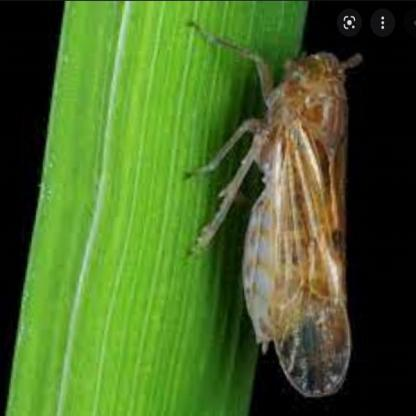brown-planthopper: (240, 50, 353, 394)
